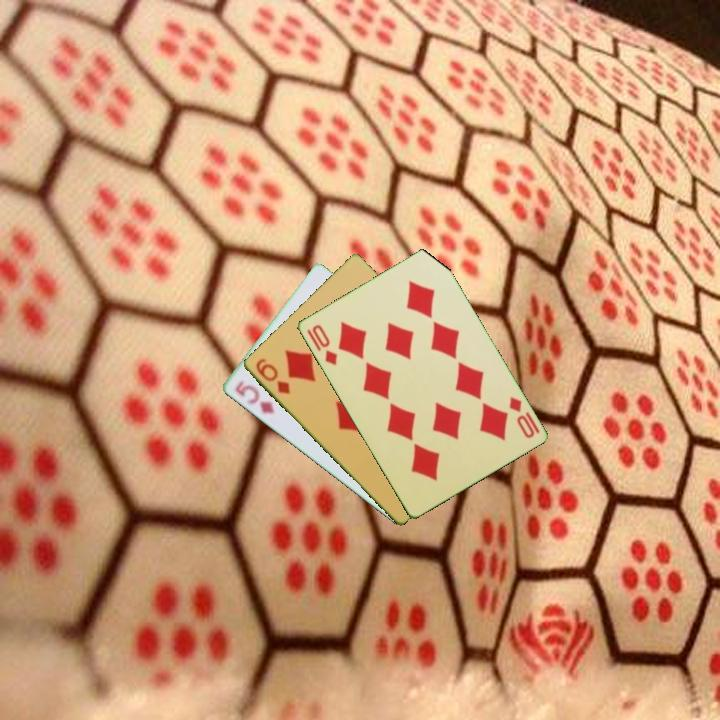10d: (308, 321, 340, 369), (505, 393, 537, 441)
5d: (231, 377, 277, 417)
6d: (252, 355, 293, 397)
